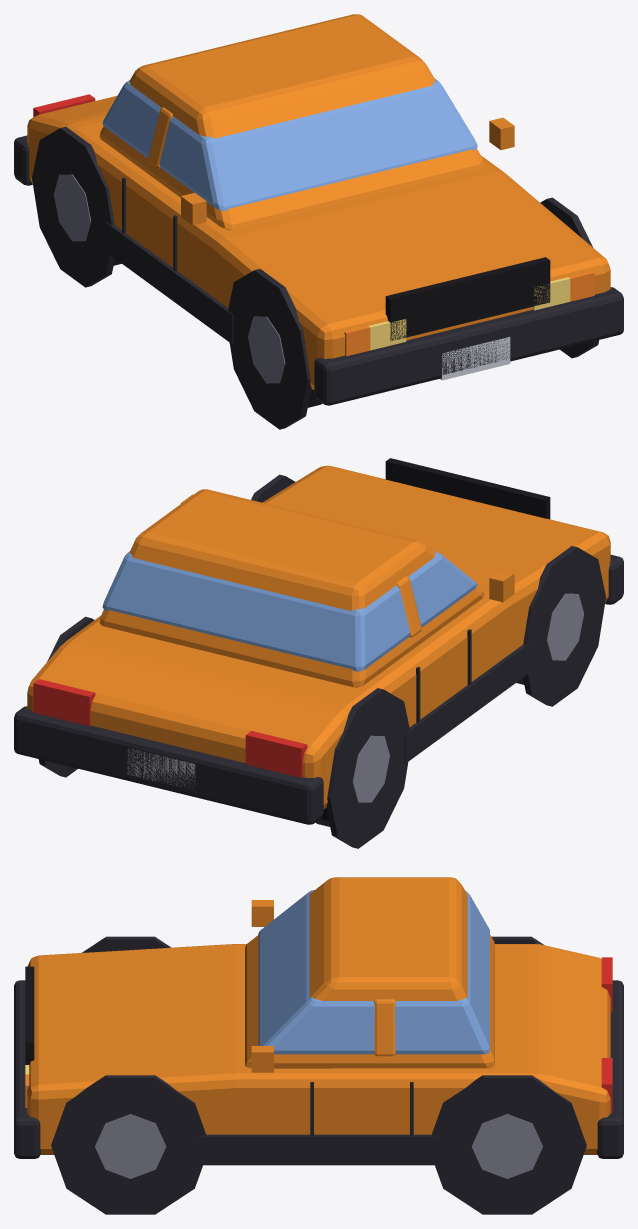
Rendered from sedan-sports.glb.
3 renders of one model, top to bottom at view 1: azimuth 30°, elevation 25°; view 2: azimuth 150°, elevation 25°; view 3: azimuth 270°, elevation 25°, orthographic. The views are drawn at different scales.
Visible parts, largest first — view 1: SedanSports; view 2: SedanSports; view 3: SedanSports.
Part boxes in pixels (x1,y1,x2,y2): SedanSports: (14, 14, 623, 429); SedanSports: (14, 458, 623, 848); SedanSports: (14, 877, 623, 1214).
Size of the model in its own units: 1.61 by 1.07 by 2.72.
1 material, 1 textured.
